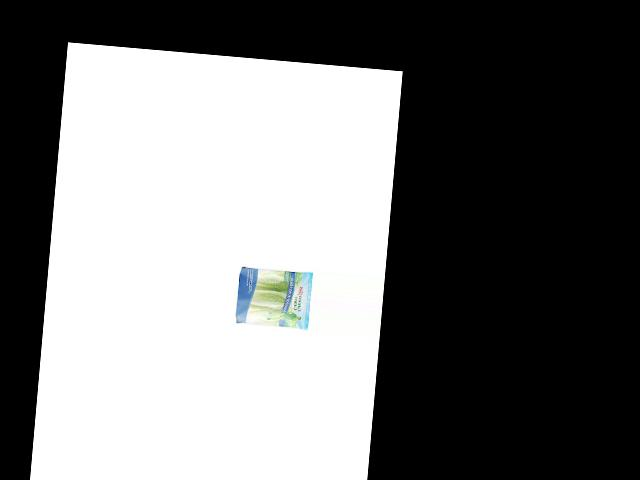lettuce: (231, 265, 309, 331)
